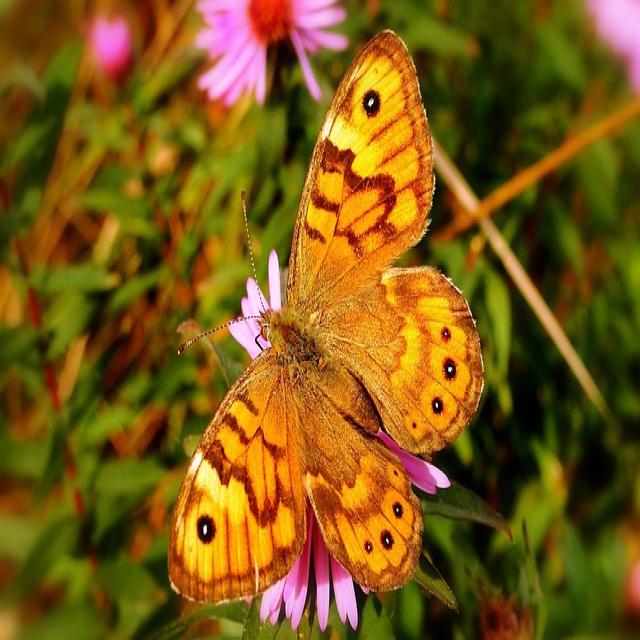butterfly: (166, 27, 484, 604)
